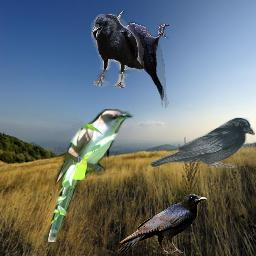Crow: (117, 193, 207, 254), (149, 117, 255, 168), (91, 14, 144, 88)
Cuckoo: (47, 109, 134, 242)
Woodpecker: (100, 10, 169, 108)
